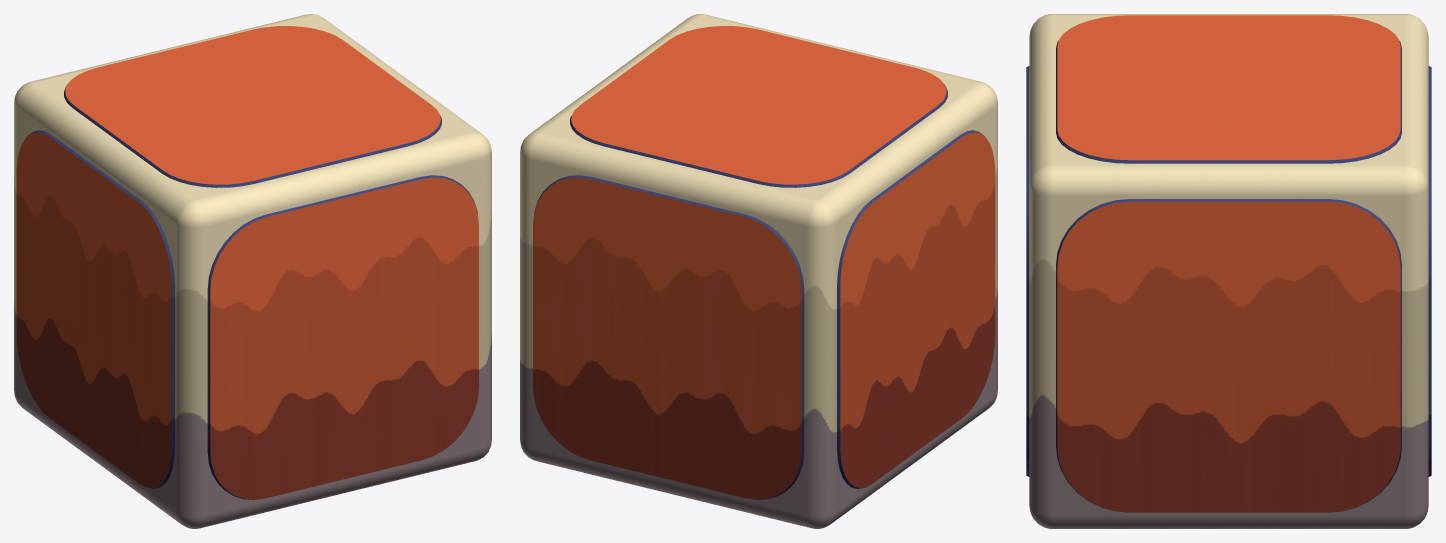
3 views of the same model, side by side, from view 1: azimuth 30°, elevation 25°; view 2: azimuth 150°, elevation 25°; view 3: azimuth 270°, elevation 25° (orthographic). The views are drawn at different scales.
Parts seen in each view (by area): view 1: R4B_Cube; view 2: R4B_Cube; view 3: R4B_Cube.
Boxes of the visible parts, <box> form: R4B_Cube: <box>14,14,491,528</box>; R4B_Cube: <box>520,14,997,528</box>; R4B_Cube: <box>1026,14,1431,528</box>.
Size of the model in its own units: 0.52 by 0.52 by 0.52.
3 materials, 3 textured.
